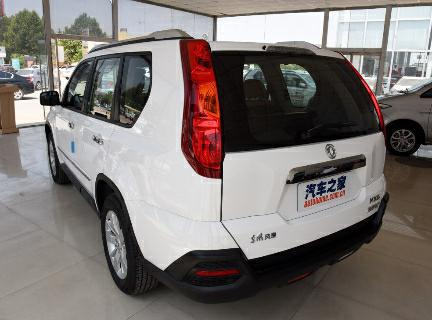东风风度-MX6: (38, 26, 399, 304)
